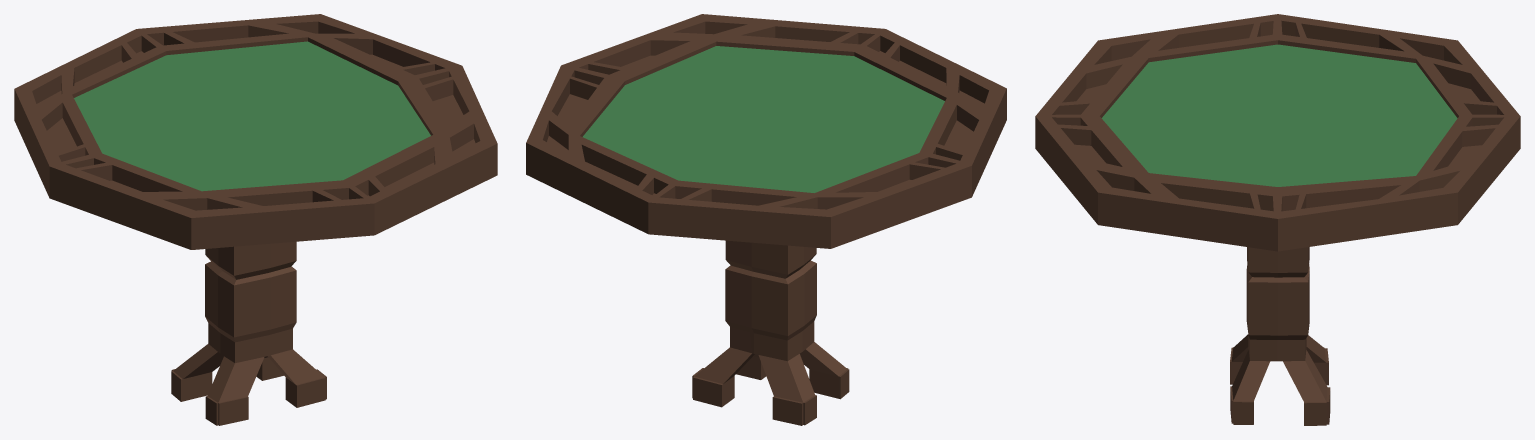
The model's file is PokerTable.fbx.
3 views of the same model, side by side, from view 1: azimuth 30°, elevation 25°; view 2: azimuth 150°, elevation 25°; view 3: azimuth 270°, elevation 25° (orthographic). The views are drawn at different scales.
Visible parts, largest first — view 1: Cube; view 2: Cube; view 3: Cube.
Boxes of the visible parts, left/top/right/bottom form: Cube: left=14, top=14, right=497, bottom=425; Cube: left=526, top=14, right=1006, bottom=425; Cube: left=1035, top=14, right=1520, bottom=425.
Size of the model in its own units: 1162 by 752 by 1162.
